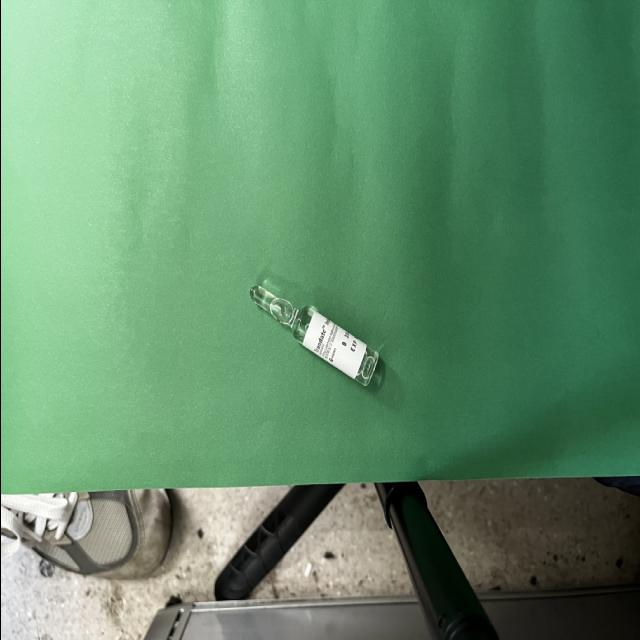Ampoules: (248, 286, 378, 387)
